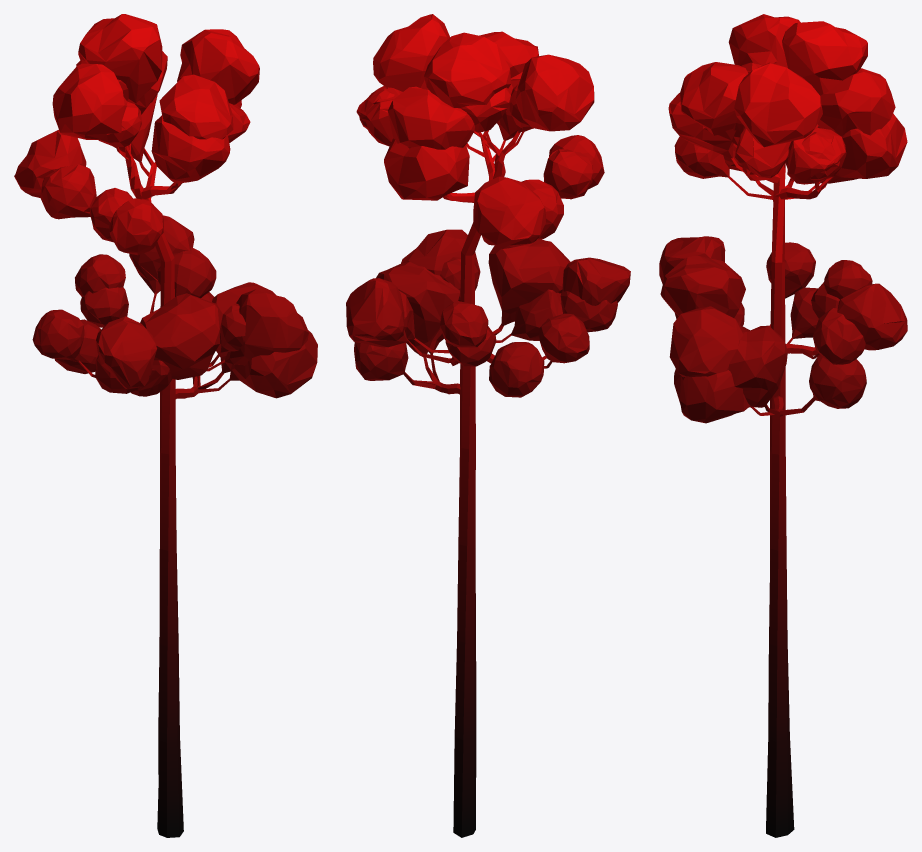
File: TreePine01.fbx
3 renders of one model, left to right at view 1: azimuth 30°, elevation 25°; view 2: azimuth 150°, elevation 25°; view 3: azimuth 270°, elevation 25°, orthographic.
Parts seen in each view (by area): view 1: TreePine01_LOD0; view 2: TreePine01_LOD0; view 3: TreePine01_LOD0.
Boxes of the visible parts, bbox=[...] form: TreePine01_LOD0: bbox=[14, 14, 317, 837]; TreePine01_LOD0: bbox=[346, 14, 630, 837]; TreePine01_LOD0: bbox=[659, 14, 907, 837].
Size of what is drawn, in the model's own units: 246 by 792 by 224.
